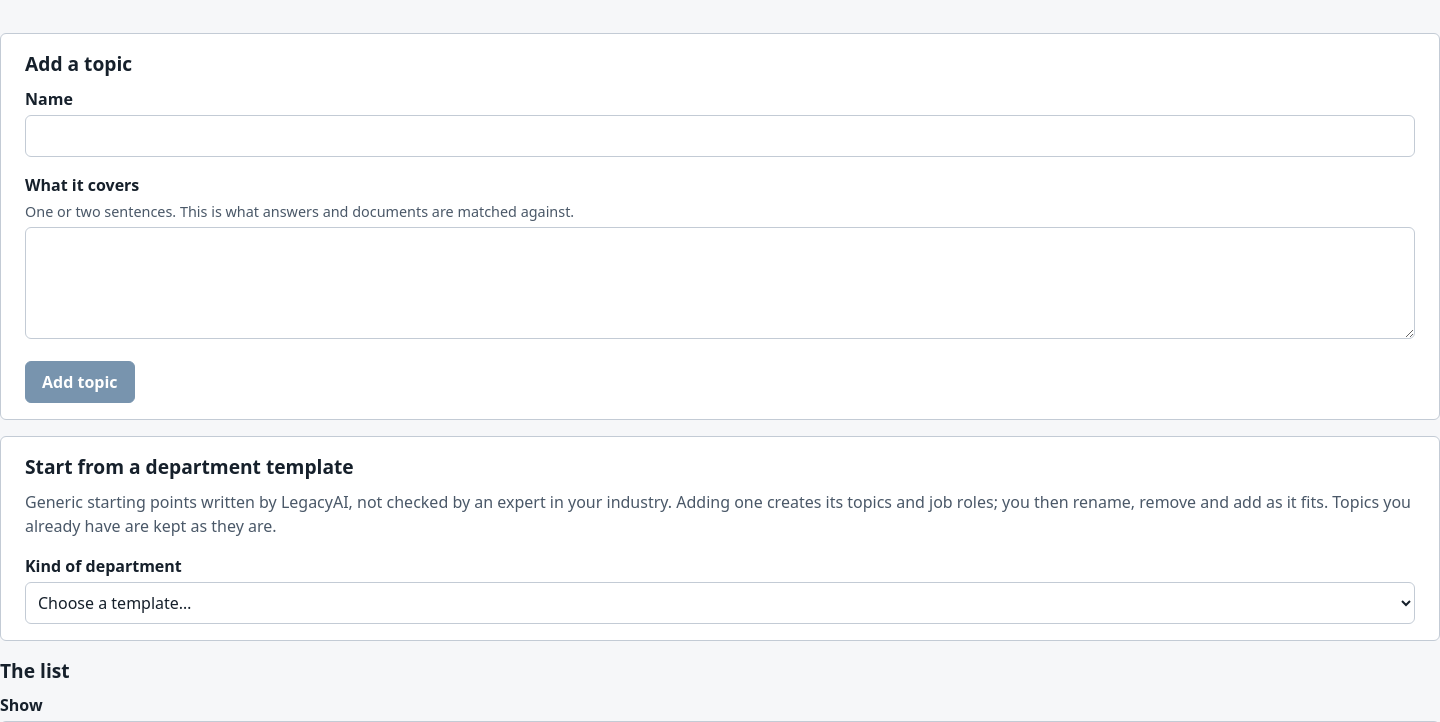
topics: department templates › shows what a template contains before anything is added, adds it only after a second click, and reports what happened
Expected: the heading "Start from a department template" is shown, 25,453 -> 354,480
Expected: the text "not checked by an expert in your industry" is shown, 25,491 -> 1411,537
Select "Maintenance" in the dropdown labelled "Kind of department" at point(720, 603), box 25,582 -> 1415,624
(page scrolled)
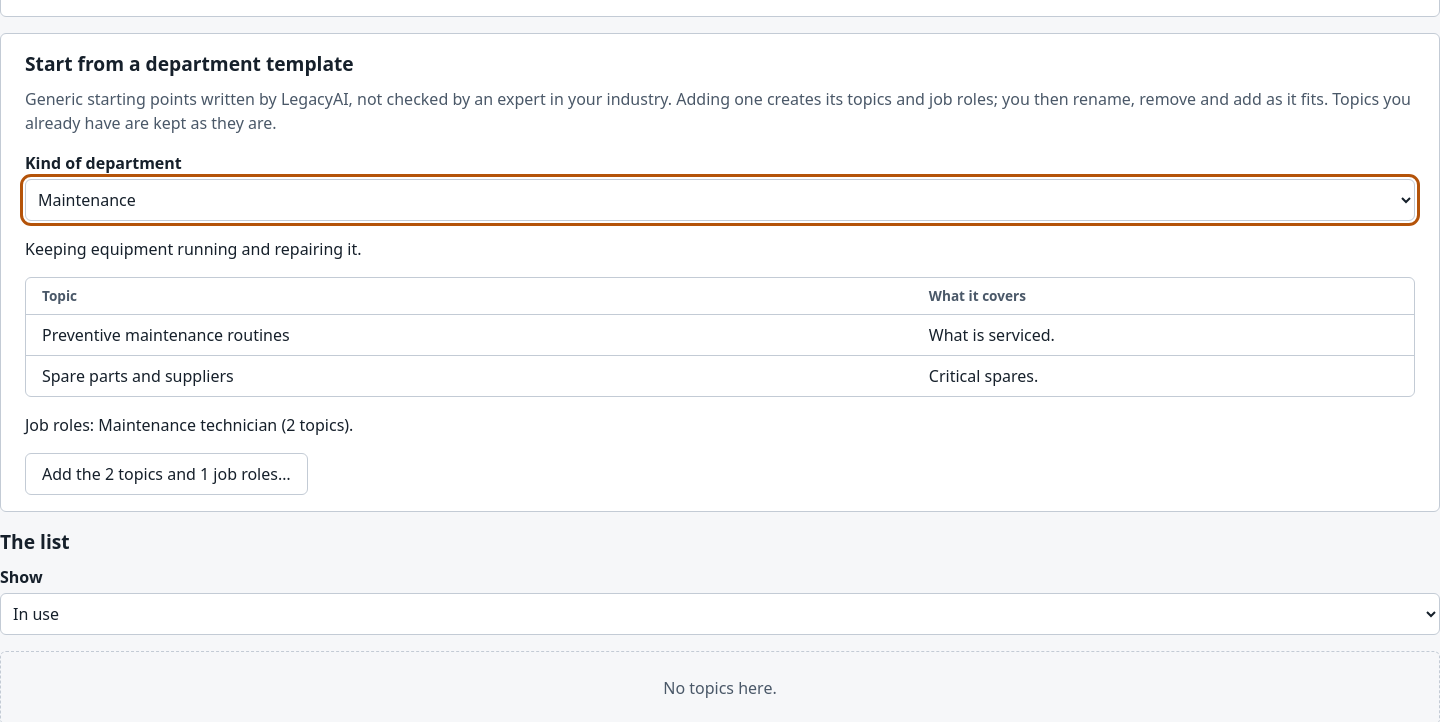
Now the text "Preventive maintenance routines" is shown, box 26,315 -> 913,356
Now the text "Job roles: Maintenance technician (2 topics)." is shown, box 25,414 -> 353,436
Click the button "Add the 2 topics and 1 job roles…".
click(166, 474)  # box 25,453 -> 308,495
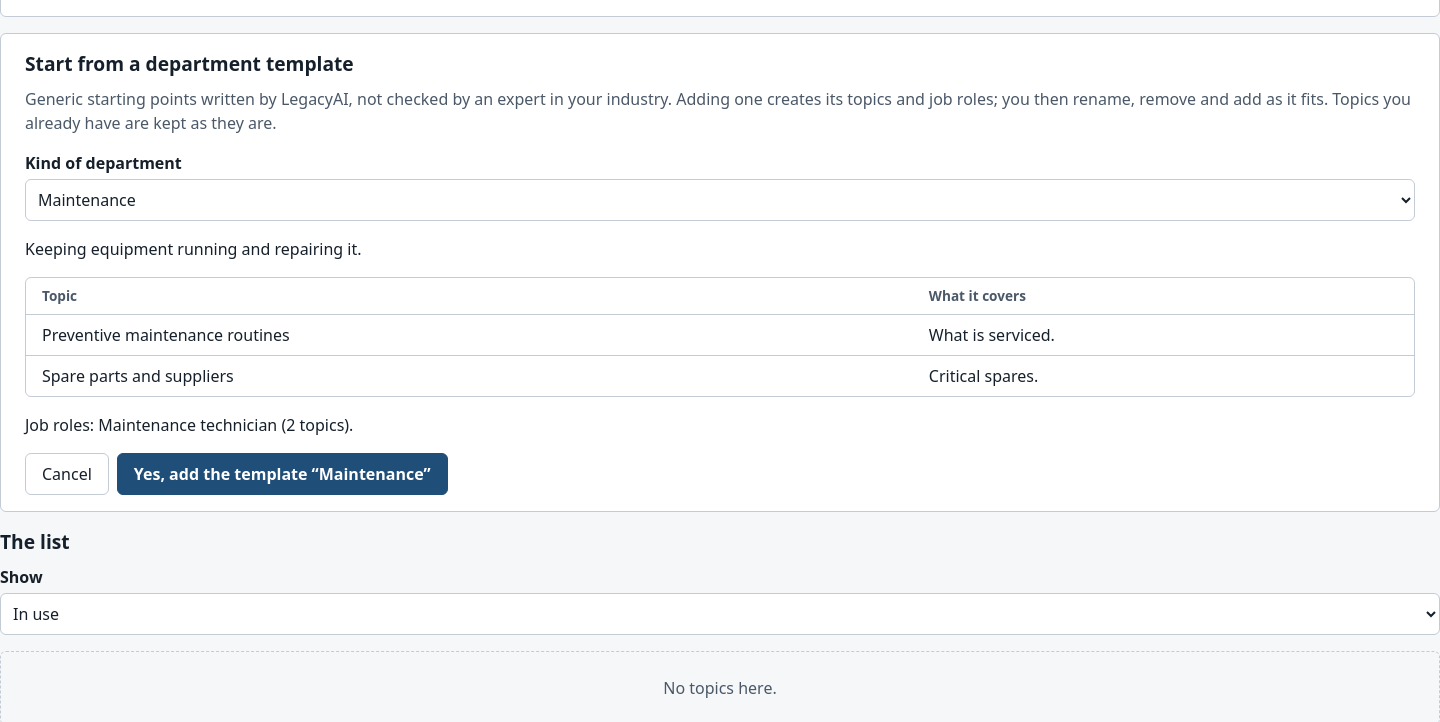
Click the button "Yes, add the template “Maintenance”".
click(282, 474)  # box 117,453 -> 448,495
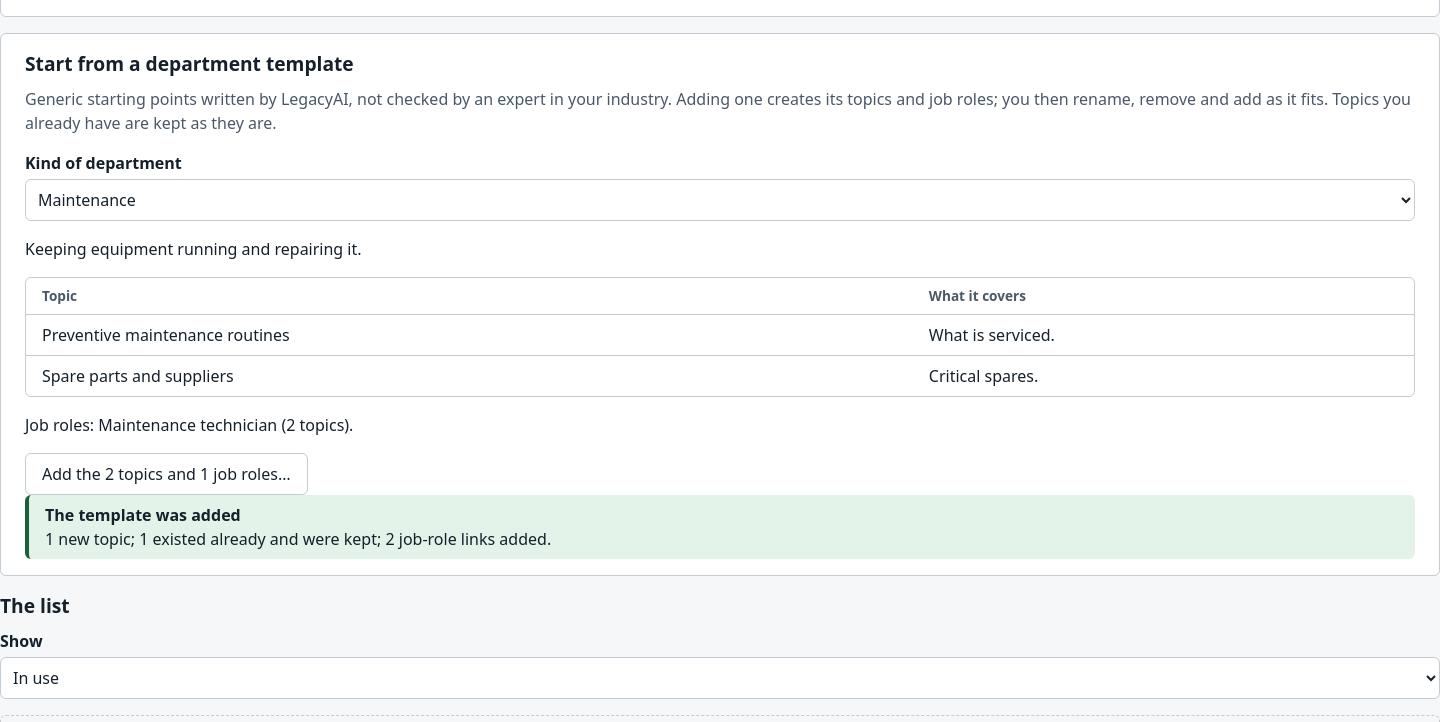
Now the text "The template was added" is shown, box 45,504 -> 241,526
Now the text "1 new topic; 1 existed already and were kept" is shown, box 45,528 -> 551,550
